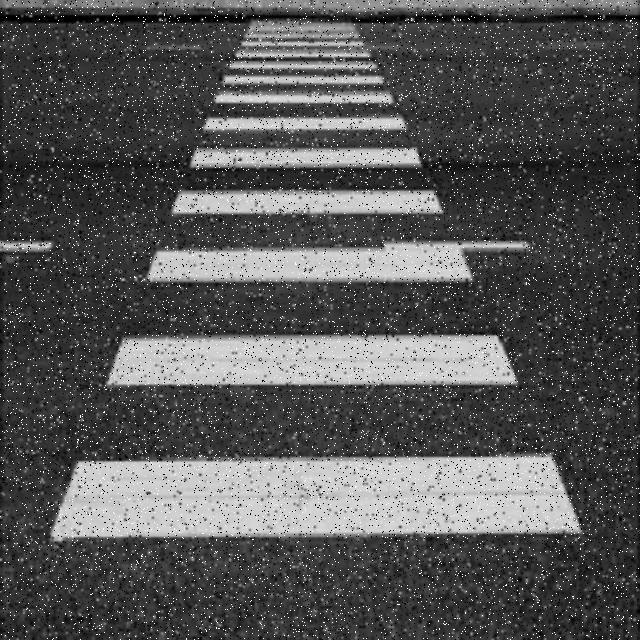Pedestrian crosswalk: (40, 0, 580, 572)
